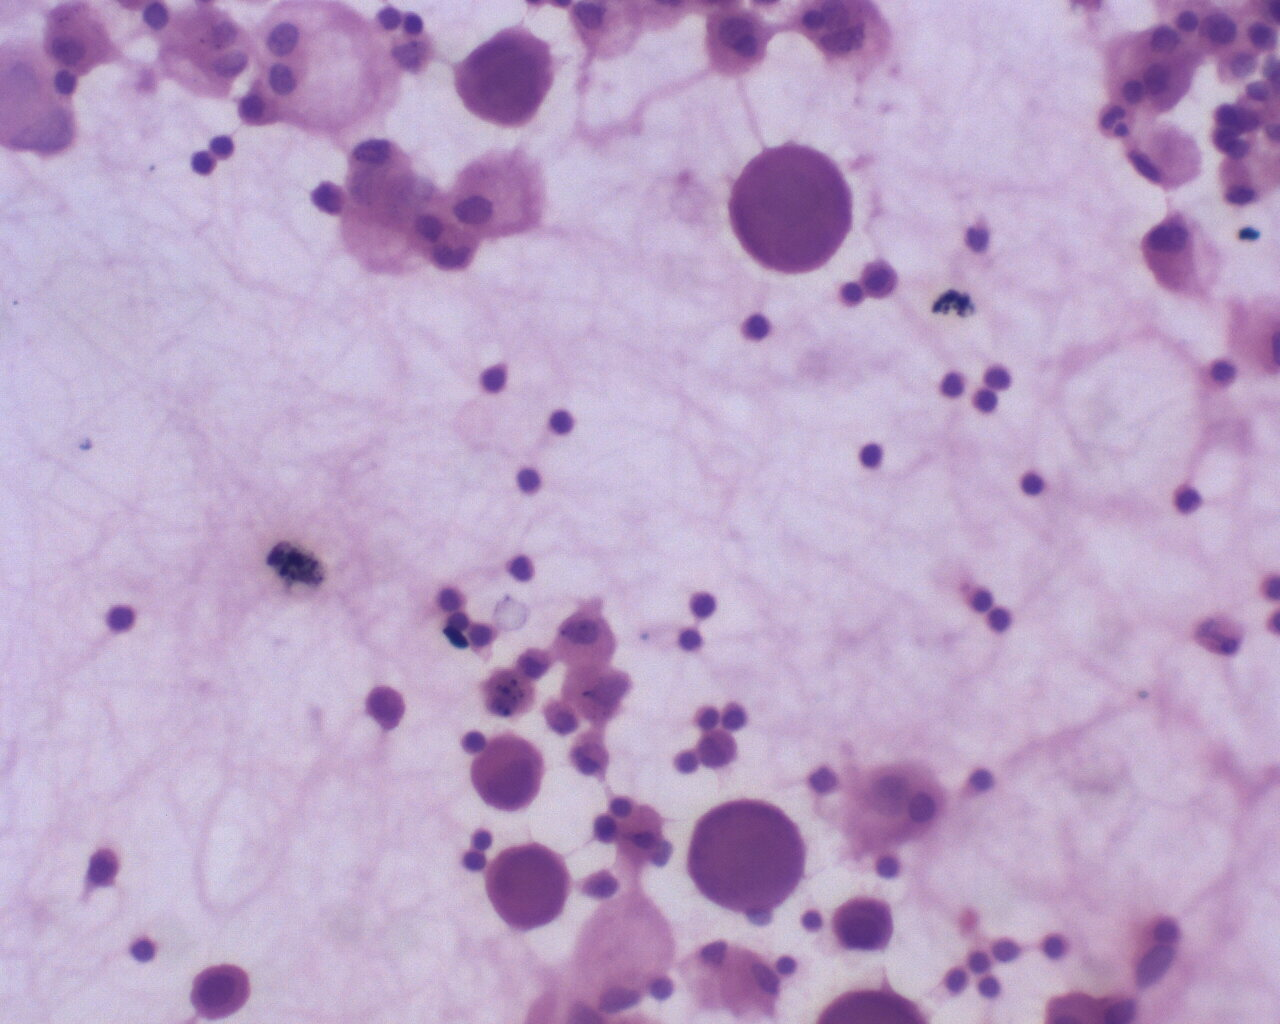ab: (723, 140, 857, 277), (684, 796, 808, 916), (449, 21, 560, 130), (484, 842, 576, 930), (460, 732, 549, 820), (182, 959, 261, 1024)
lymph: (540, 401, 587, 442), (471, 359, 515, 402), (1013, 466, 1053, 509), (851, 436, 888, 478), (734, 309, 773, 344)
meso: (550, 606, 622, 676)
neutro: (1093, 100, 1140, 145)
